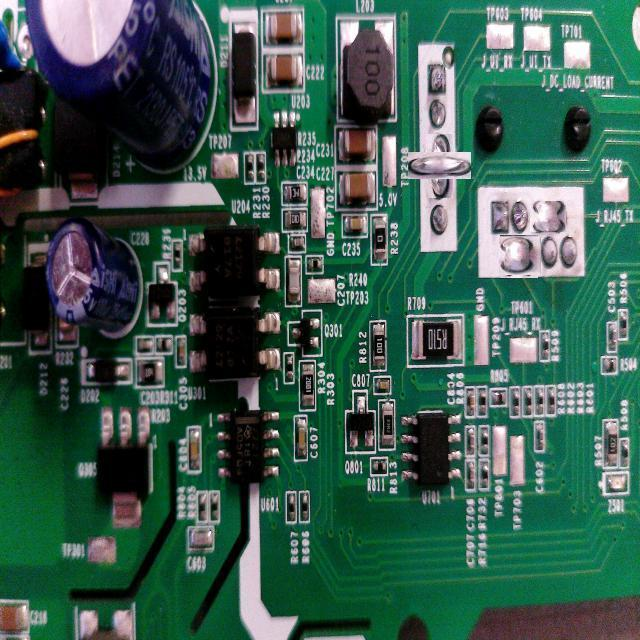Short_circuit: (417, 143, 462, 189), (499, 236, 540, 277), (532, 199, 566, 233)
